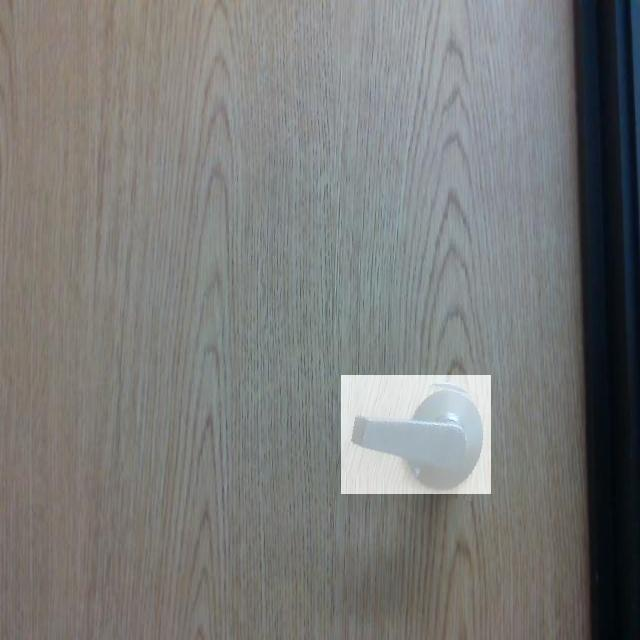doorhandle: (341, 375, 491, 494)
